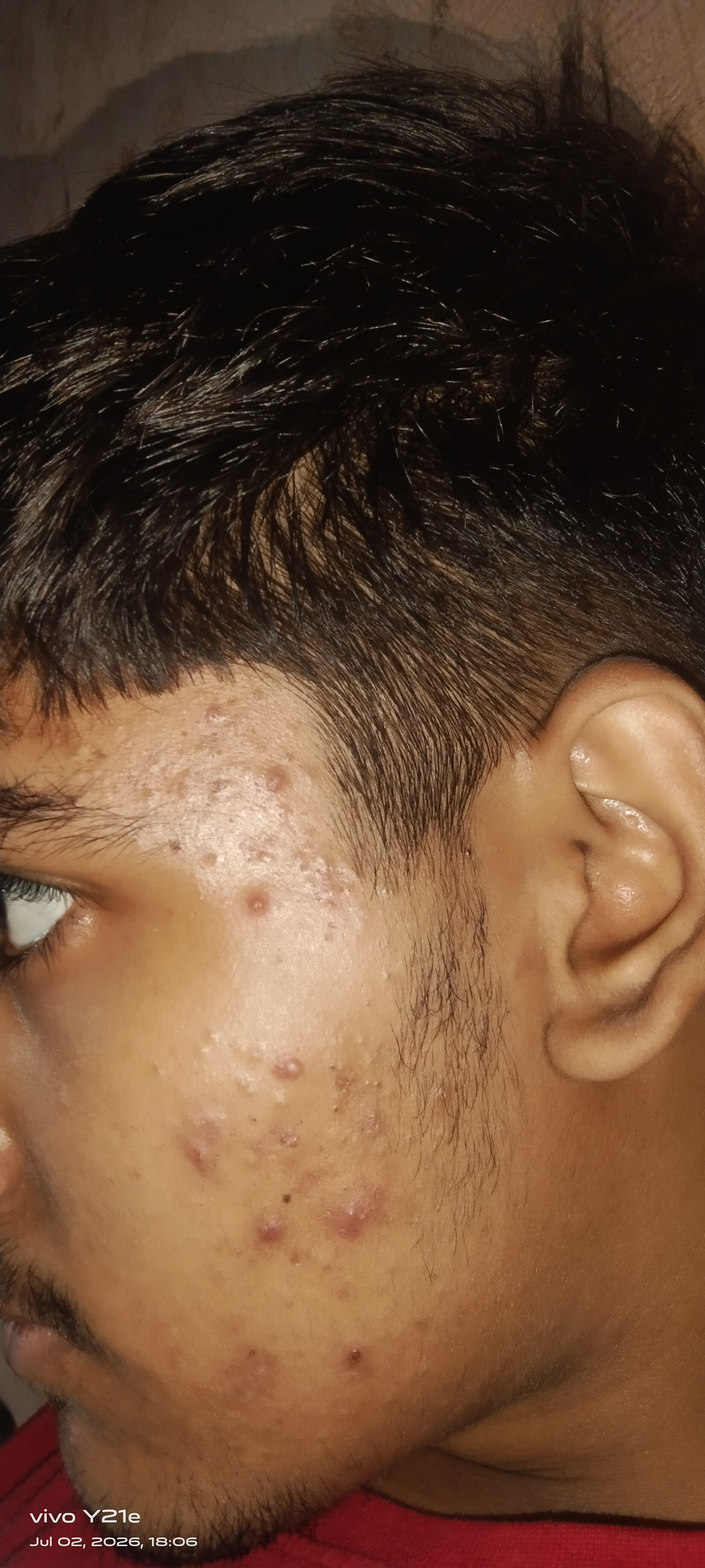closed_comedone: (359, 1116, 406, 1149), (192, 1045, 213, 1058), (207, 1032, 224, 1042)
nodule: (179, 1134, 229, 1184), (332, 1194, 381, 1235)
open_comedone: (328, 1059, 351, 1075), (329, 1099, 344, 1118), (371, 1077, 384, 1091)
papule: (236, 893, 286, 925)
pustule: (276, 1052, 312, 1093)
